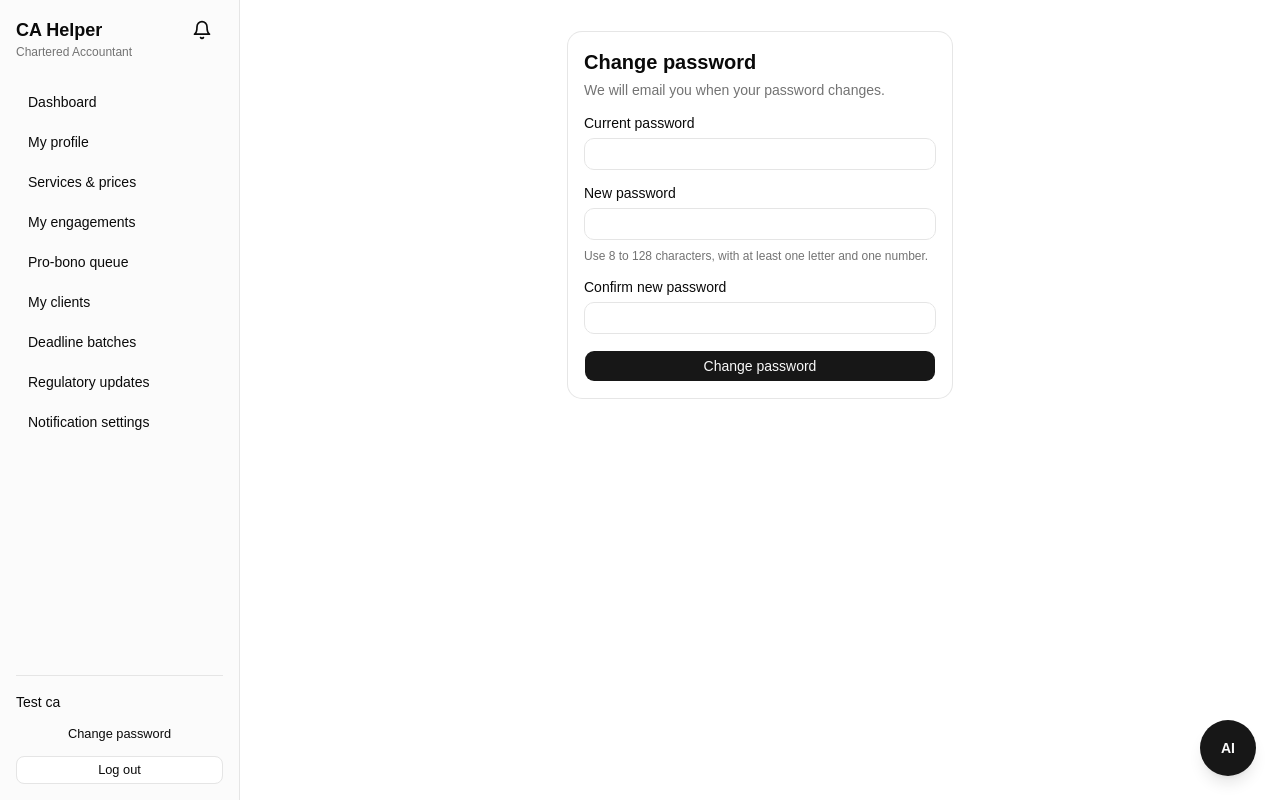
Test: notification bell › says when there is nothing yet
What coordinates should you click on to do the following:
click the button named "Notifications"
I would click on:
 (202, 30)
Its box is [181,16,223,44].
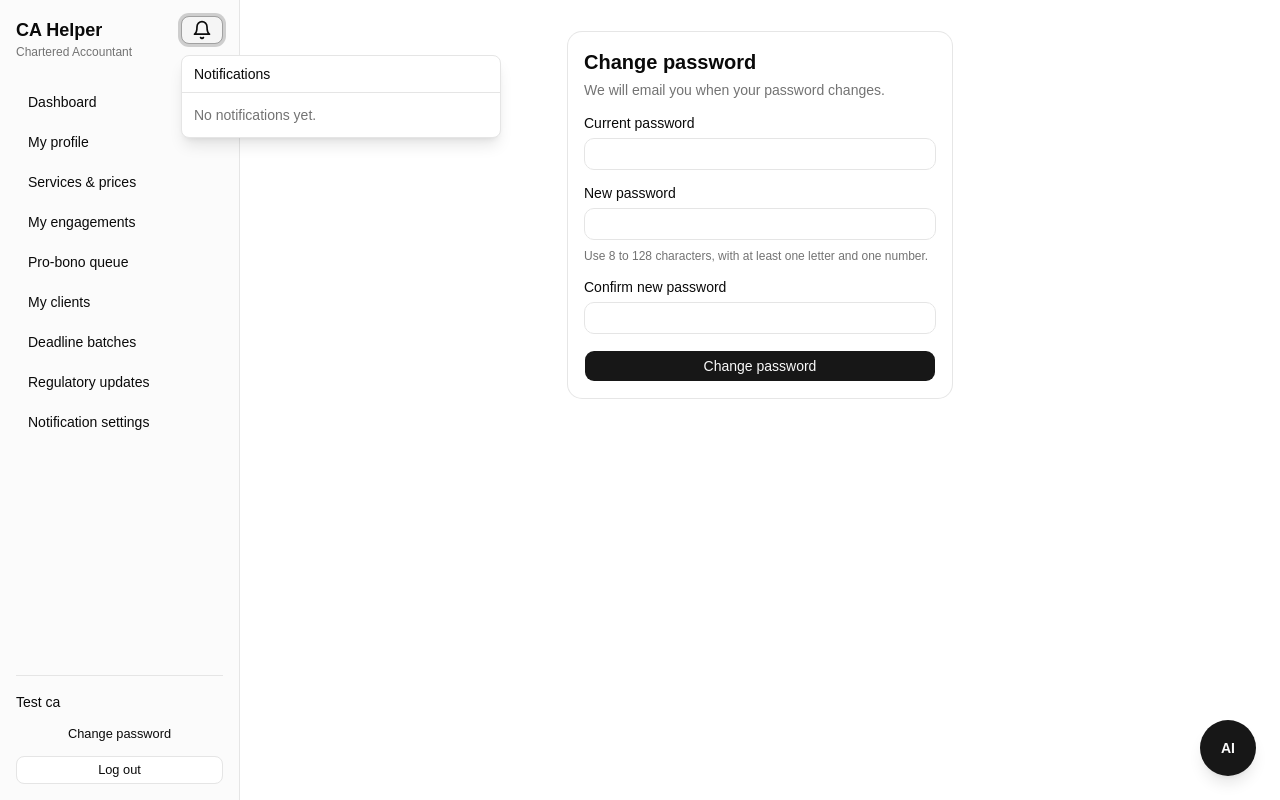
Now the text "No notifications yet." is shown, box [194,107,316,123]
